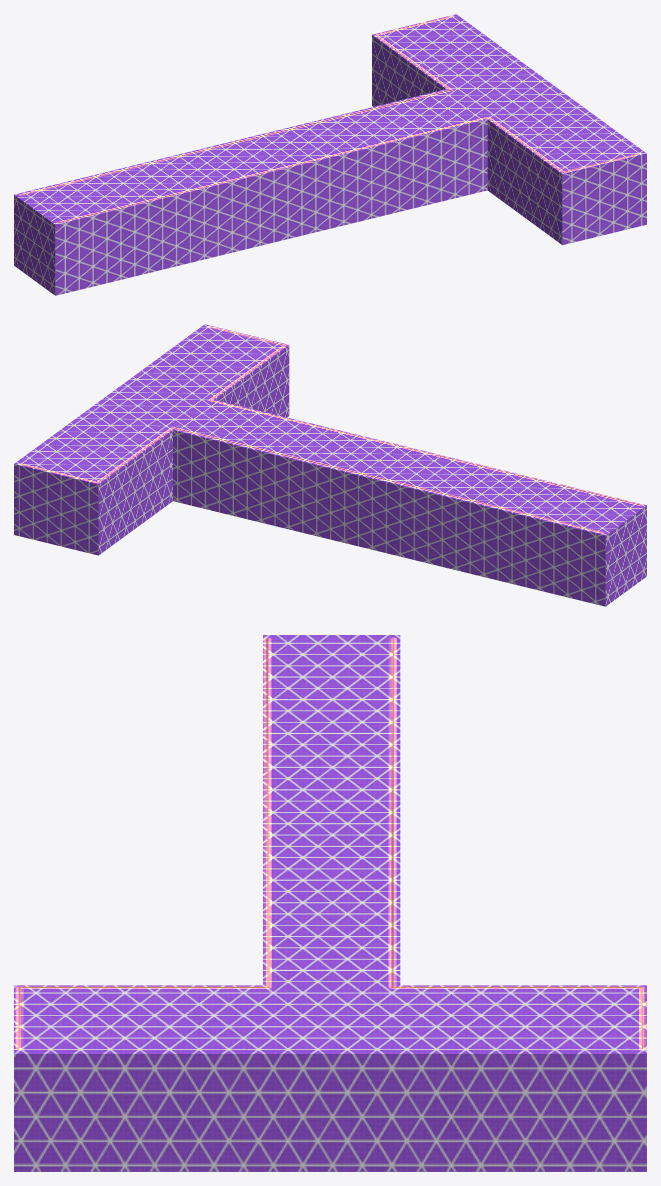
Rendered from Pasarela.fbx.
3 views of the same model, one above another, from view 1: azimuth 30°, elevation 25°; view 2: azimuth 150°, elevation 25°; view 3: azimuth 270°, elevation 25° (orthographic). The views are drawn at different scales.
Visible parts, largest first — view 1: Cube; view 2: Cube; view 3: Cube.
Part boxes in pixels (box(x1,y1,x2,y2)): Cube: box(14, 14, 646, 295); Cube: box(14, 324, 646, 606); Cube: box(14, 635, 646, 1171).
Bounding box in the file's own units: 3756 × 493 × 2400.
